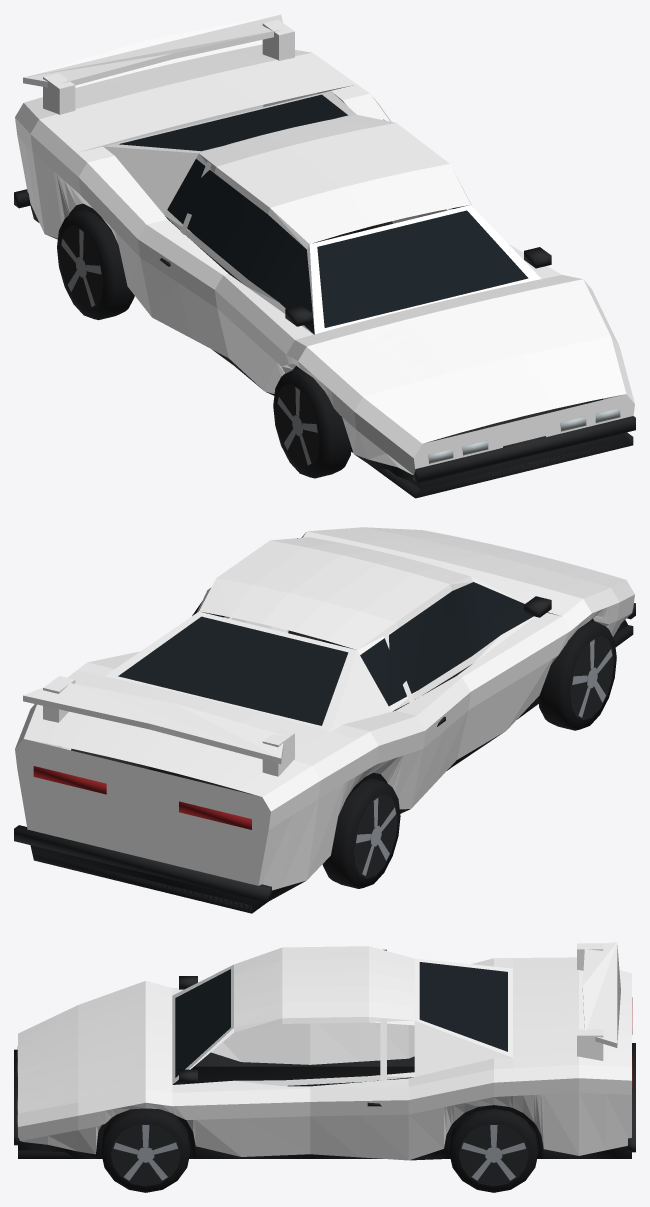
The model's file is kanaya_cunha.glb.
3 renders of one model, top to bottom at view 1: azimuth 30°, elevation 25°; view 2: azimuth 150°, elevation 25°; view 3: azimuth 270°, elevation 25°, orthographic. The views are drawn at different scales.
Visible parts, largest first — view 1: Body_Paint, Body_Details, Mount_FrontLeft_Wheel_Details, Mount_RearLeft_Wheel_Details; view 2: Body_Paint, Body_Details, Mount_FrontLeft_Wheel_Details, Mount_RearLeft_Wheel_Details; view 3: Body_Paint, Body_Details, Mount_FrontRight_Wheel_Details, Mount_RearRight_Wheel_Details.
Boxes of the visible parts, box(x1,y1,x2,y2) form: Body_Paint: box(15, 14, 634, 474); Body_Details: box(14, 94, 635, 498); Mount_FrontLeft_Wheel_Details: box(273, 368, 351, 478); Mount_RearLeft_Wheel_Details: box(57, 209, 134, 320); Body_Paint: box(15, 527, 634, 890); Body_Details: box(14, 538, 635, 913); Mount_FrontLeft_Wheel_Details: box(538, 620, 616, 730); Mount_RearLeft_Wheel_Details: box(322, 778, 400, 888); Body_Paint: box(18, 942, 631, 1160); Body_Details: box(14, 962, 635, 1160); Mount_FrontRight_Wheel_Details: box(101, 1108, 190, 1192); Mount_RearRight_Wheel_Details: box(449, 1109, 538, 1192).
Size of the model in its own units: 1.9 by 1.19 by 4.24.
Materials: 2 (1 with a texture image).
